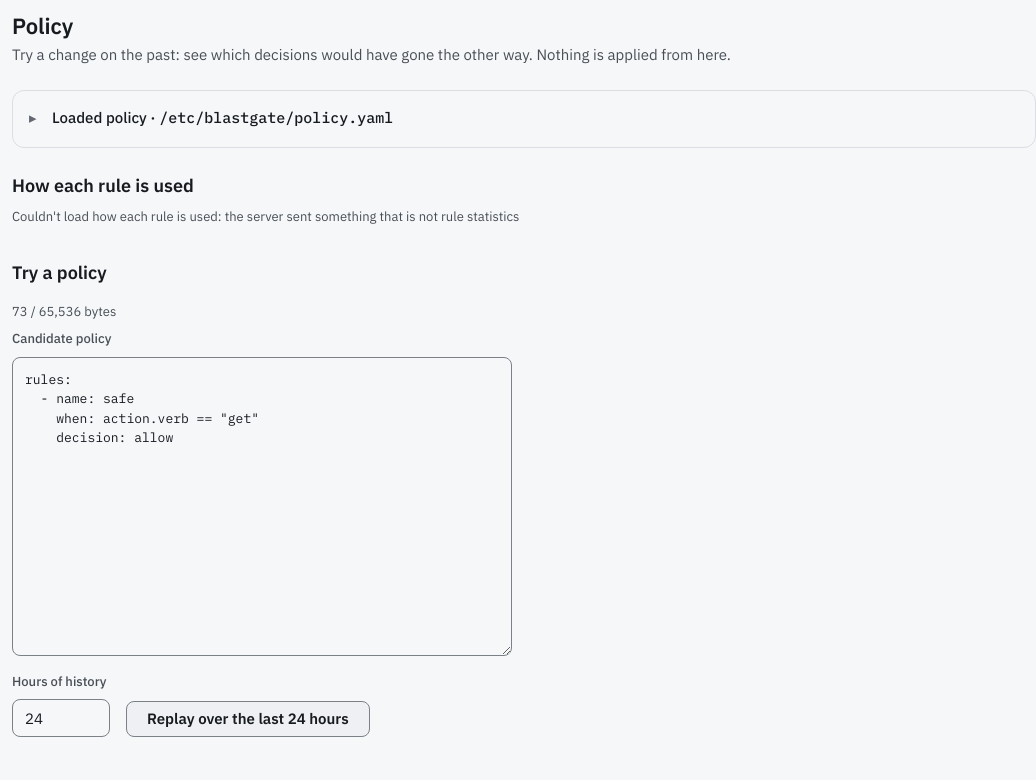
Policy › shows the loaded policy read-only in a disclosure and replays a candidate with the csrf header
The width and height of the screenshot is (1036, 780).
Replace the text in the text box labelled "Candidate policy" with "rules: [ []": (262, 506) top-left (12, 356), bottom-right (512, 656)
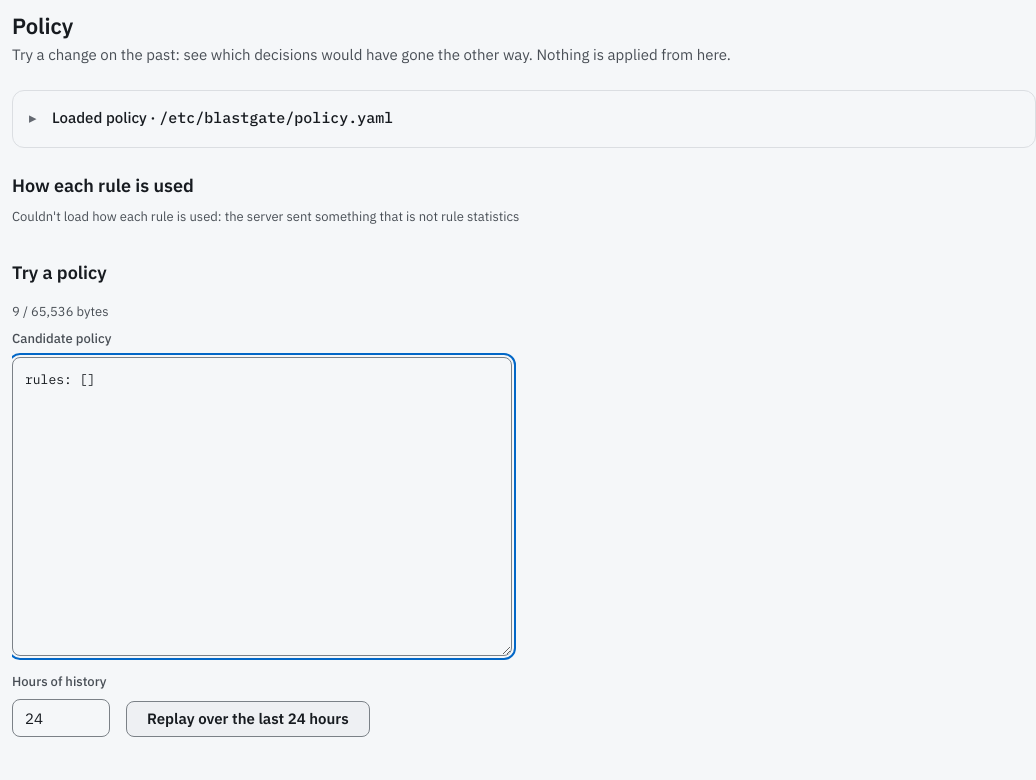
Replace the text in the number field labelled "Hours of history" with "48": (61, 718) top-left (12, 699), bottom-right (110, 737)
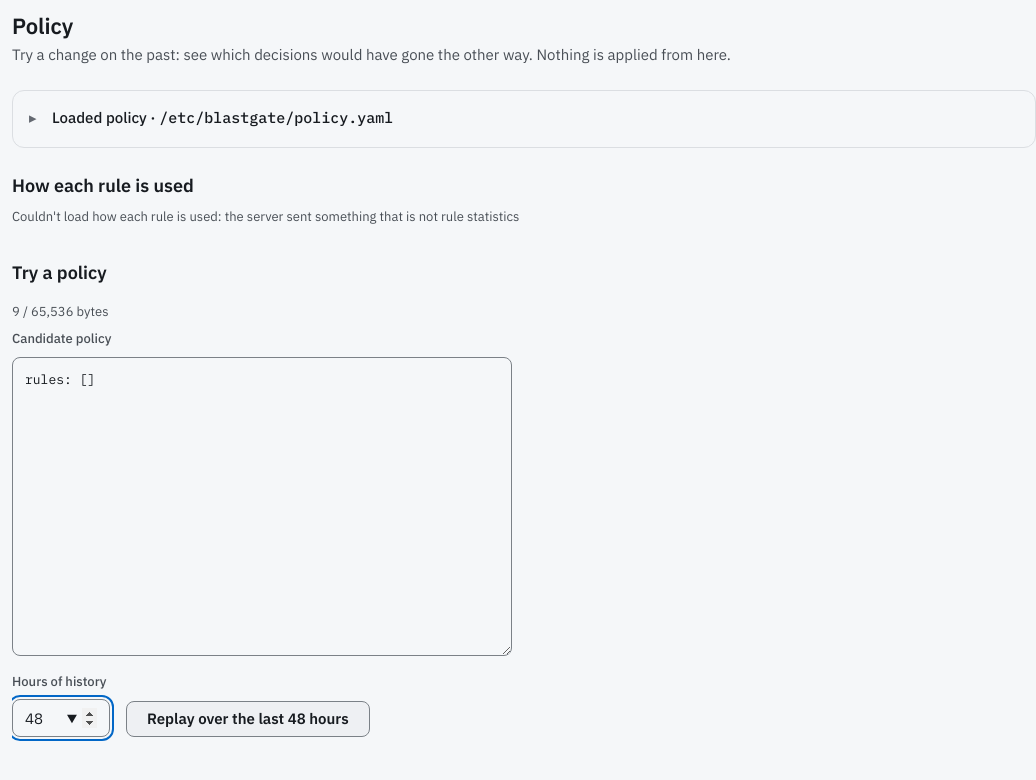
Click the button "Replay over the last 48 hours": (248, 719) top-left (126, 701), bottom-right (370, 737)
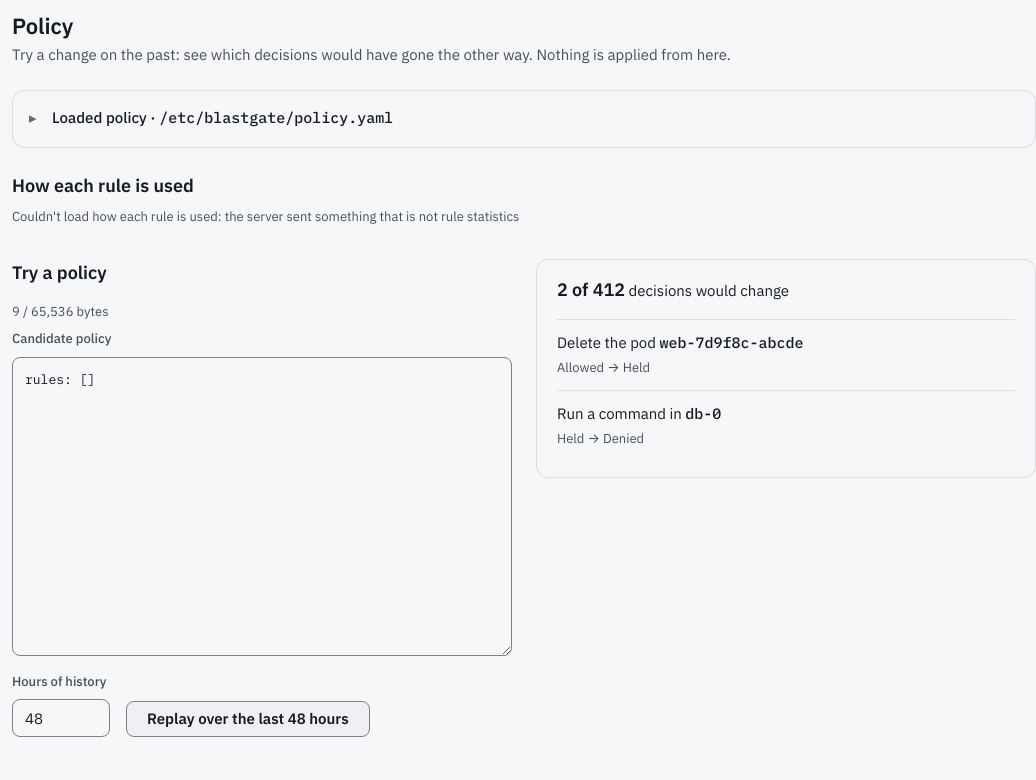
Check: the element named "Replay result" is shown, box top-left (536, 258), bottom-right (1035, 478)
